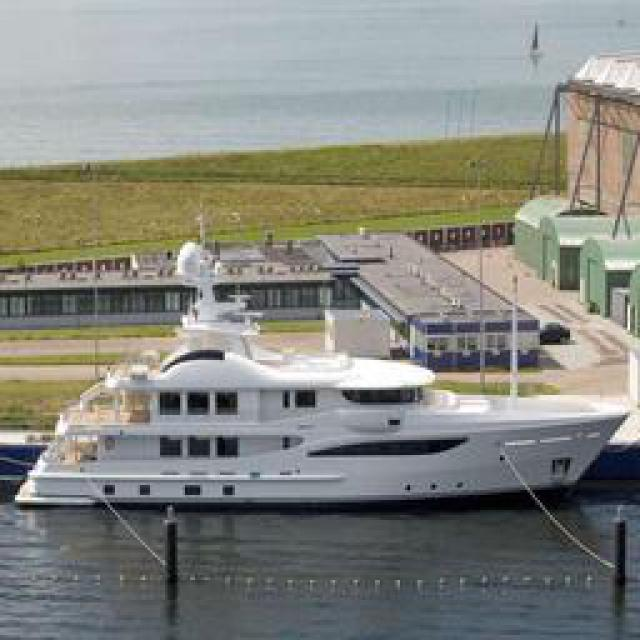Ship: (31, 239, 631, 519)
